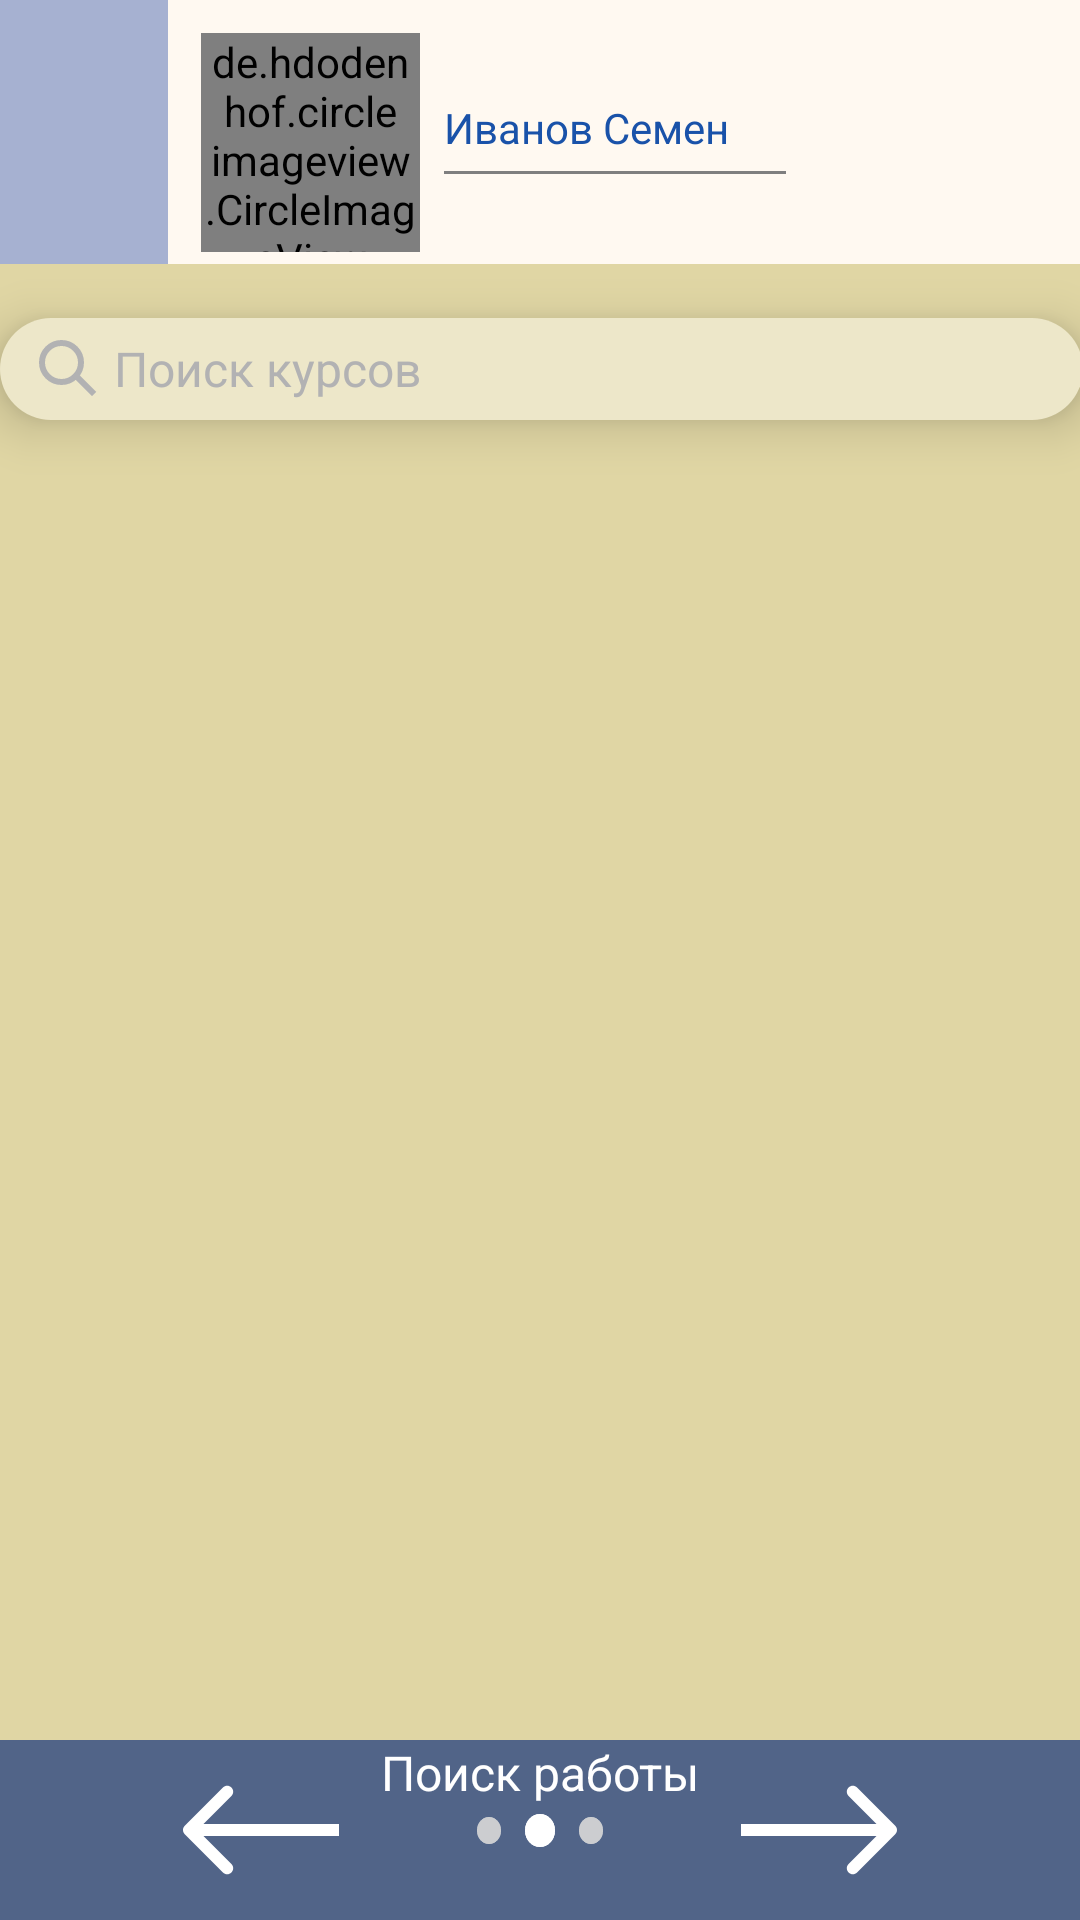

Icon bounding boxes for this 1080px x 1920px phone screenshot, format (x1, y1, x2, y2):
arrow left: (183, 1785, 339, 1875)
arrow right: (741, 1785, 897, 1875)
